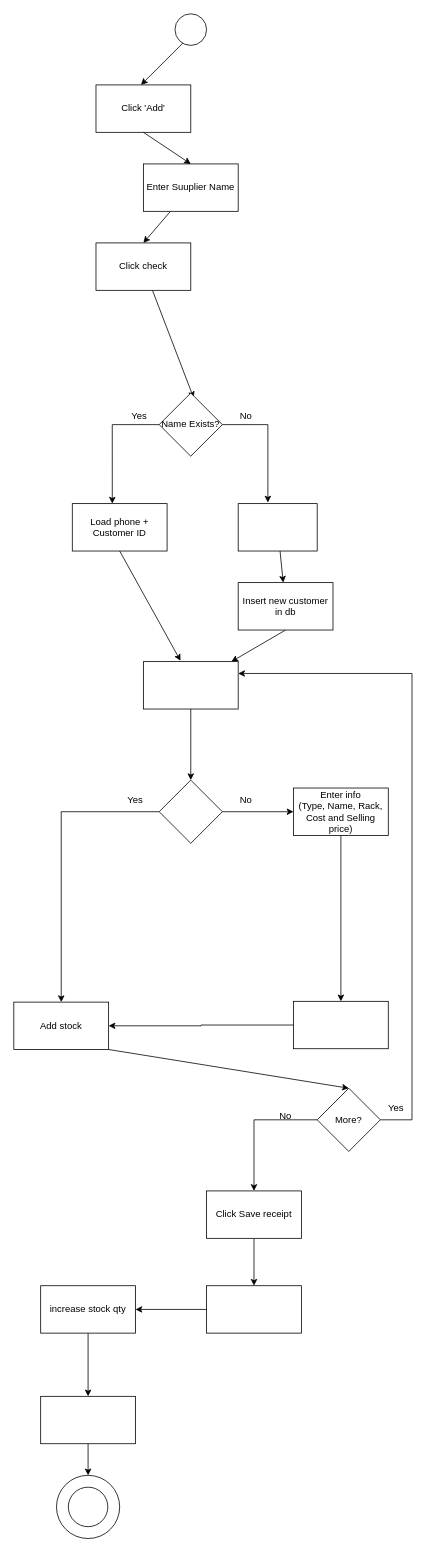
Image size: 434x1552. Some labels were removed from this diagram. The shapes that lost their labels are listed below. From the top down, each one's centre as x and y in pixels, then its label:
the point at 277,527: Enter phone, and details
the point at 190,685: Add Items
the point at 190,811: Product in stock?
the point at 340,1025: Insert entry in Supplier Receipts
the point at 253,1309: insert info in suplier receipt
the point at 87,1420: Commit+Save
